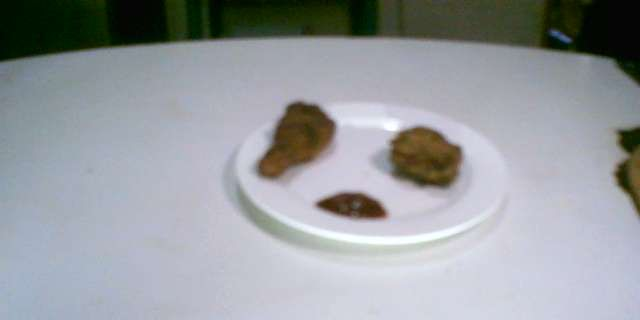chicken: (255, 98, 337, 180), (386, 123, 463, 192)
ketchup_portion: (312, 188, 392, 225)
